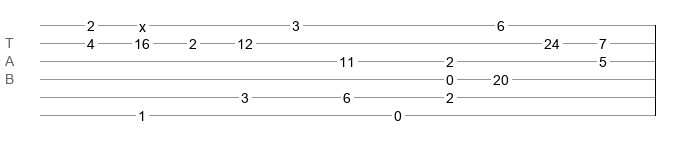0: (394, 108, 402, 118), (446, 72, 454, 82)
1: (138, 108, 146, 118)
11: (339, 54, 355, 64)
12: (237, 36, 253, 46)
16: (134, 36, 150, 46)
2: (87, 18, 95, 28), (189, 36, 197, 46), (446, 54, 454, 64), (446, 90, 454, 100)
20: (493, 72, 509, 82)
24: (544, 36, 560, 46)
3: (241, 90, 249, 100), (292, 18, 300, 28)
4: (87, 36, 95, 46)
5: (599, 54, 607, 64)
6: (343, 90, 351, 100), (497, 18, 505, 28)
7: (599, 36, 607, 46)
x: (139, 19, 146, 27)
